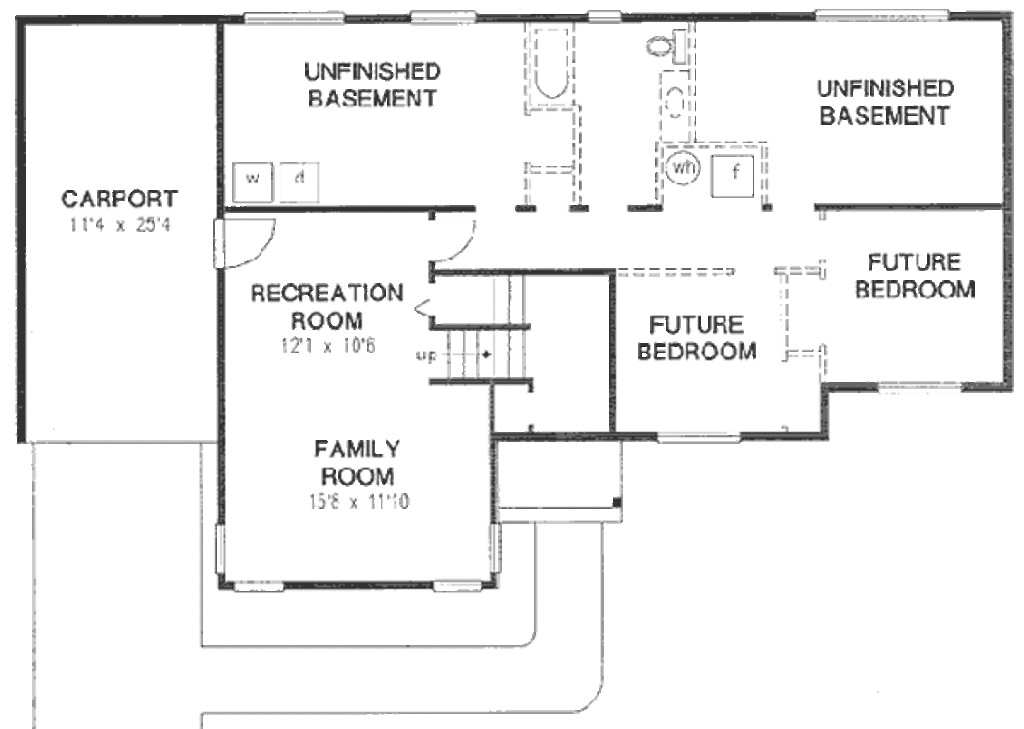door: (208, 214, 279, 271), (426, 212, 481, 266)
large_sink: (642, 26, 694, 69)
small_sink: (663, 73, 699, 139)
stairs: (427, 273, 543, 381)
tub: (523, 26, 575, 116)
window: (814, 6, 949, 26), (877, 376, 966, 396), (481, 515, 508, 577), (654, 431, 757, 447), (240, 11, 342, 26), (209, 519, 234, 576), (225, 576, 287, 595), (408, 9, 481, 23), (432, 581, 488, 594), (590, 6, 620, 23)
